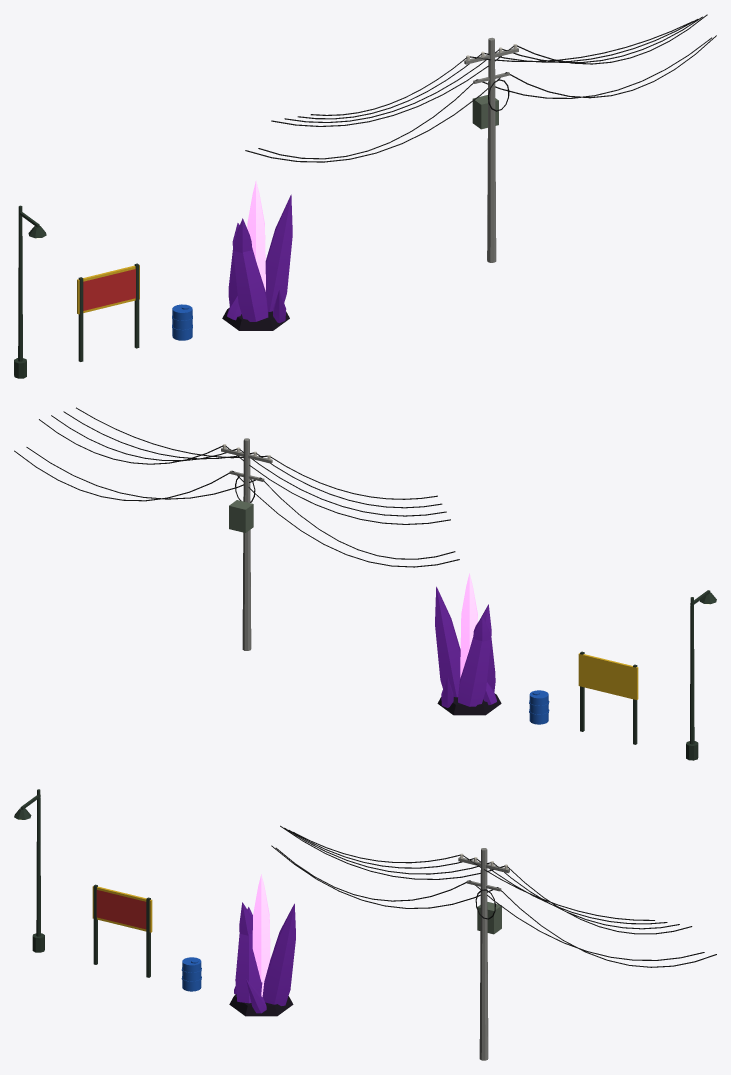
The model's file is street_props.glb.
The picture shows the model from 3 angles, top to bottom: view 1: azimuth 30°, elevation 25°; view 2: azimuth 150°, elevation 25°; view 3: azimuth 330°, elevation 25°; orthographic projection. The views are drawn at different scales.
Visible parts, largest first — view 1: Wire_Pole, Pylon, Signboard_Panel, Signboard, Lamp_Post, Pylon_Core, Water_Drum; view 2: Wire_Pole, Pylon, Signboard, Lamp_Post, Pylon_Core, Water_Drum; view 3: Wire_Pole, Pylon, Signboard_Panel, Pylon_Core, Signboard, Lamp_Post, Water_Drum.
Boxes of the visible parts, bbox=[...] form: Wire_Pole: bbox=[245, 14, 716, 262]; Pylon: bbox=[222, 194, 292, 330]; Signboard_Panel: bbox=[83, 269, 135, 310]; Signboard: bbox=[77, 263, 139, 361]; Lamp_Post: bbox=[14, 205, 46, 378]; Pylon_Core: bbox=[247, 180, 265, 291]; Water_Drum: bbox=[172, 304, 192, 340]; Wire_Pole: bbox=[14, 407, 459, 650]; Pylon: bbox=[435, 586, 501, 715]; Signboard: bbox=[578, 651, 638, 744]; Lamp_Post: bbox=[686, 590, 716, 760]; Pylon_Core: bbox=[460, 573, 477, 677]; Water_Drum: bbox=[529, 690, 549, 724]; Wire_Pole: bbox=[271, 825, 716, 1060]; Pylon: bbox=[229, 902, 295, 1016]; Signboard_Panel: bbox=[96, 890, 146, 929]; Pylon_Core: bbox=[252, 874, 270, 996]; Signboard: bbox=[92, 884, 152, 977]; Lamp_Post: bbox=[14, 789, 44, 952]; Water_Drum: bbox=[181, 957, 201, 991].
Size of the model in its own units: 24.29 by 7.2 by 2.44.
